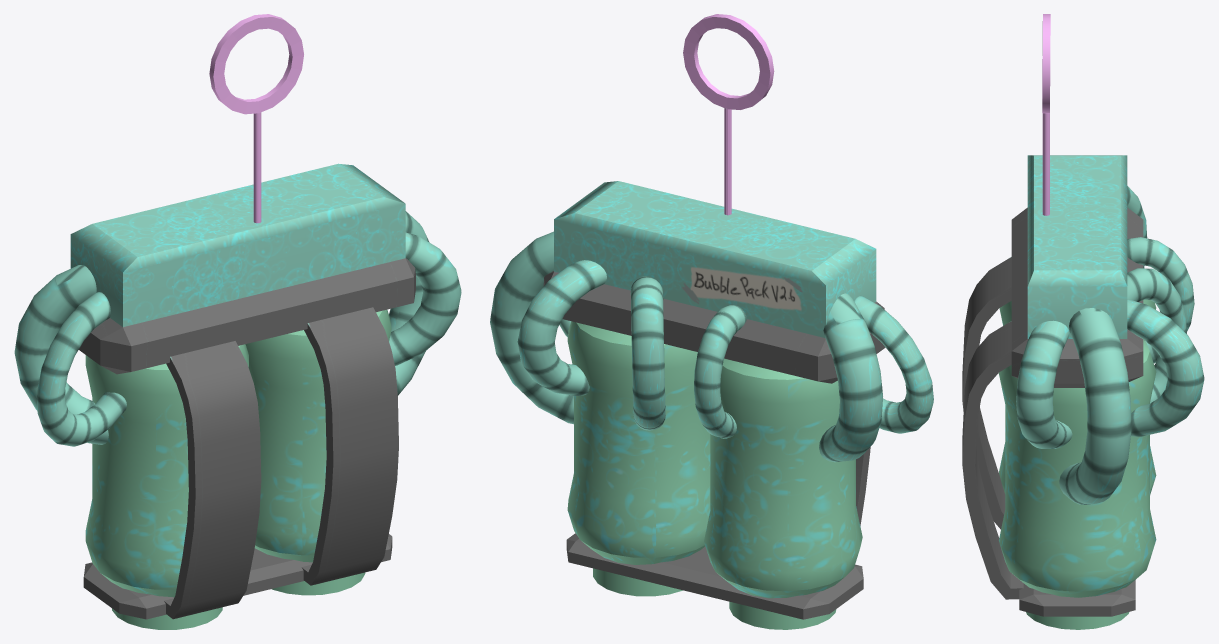
The model's file is jetpack.fbx.
The picture shows the model from 3 angles, left to right: view 1: azimuth 30°, elevation 25°; view 2: azimuth 150°, elevation 25°; view 3: azimuth 270°, elevation 25°; orthographic projection. The views are drawn at different scales.
Visible parts, largest first — view 1: Bubblebottle4; view 2: Bubblebottle4; view 3: Bubblebottle4.
Boxes of the visible parts, x1,y1,x2,y2 form: Bubblebottle4: (14, 14, 461, 629); Bubblebottle4: (490, 14, 933, 629); Bubblebottle4: (962, 14, 1204, 629).
Bounding box in the file's own units: 6.48 × 8.53 × 3.35.
Materials: 1 (1 with a texture image).
